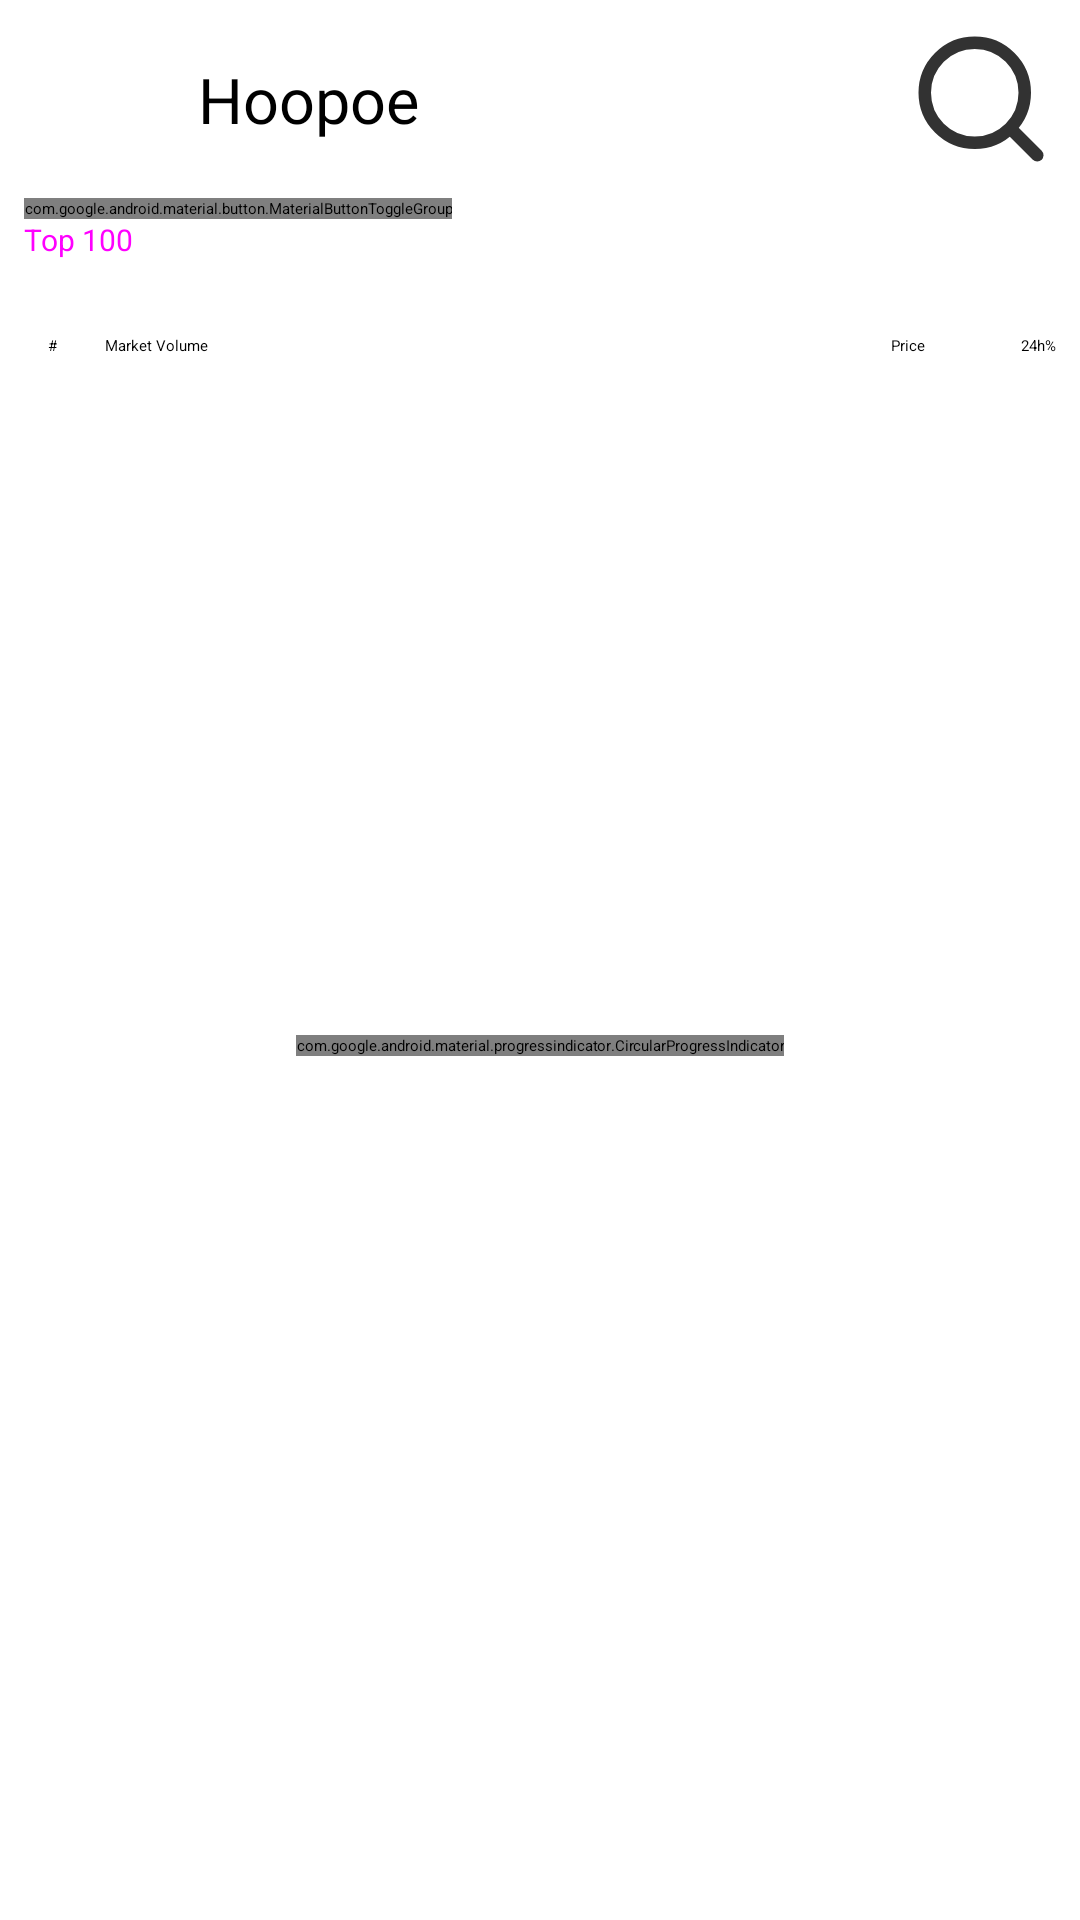

Named icons in this screenshot (1080×1920) and their bounding boxes, (x1, y1, x2, y2):
search: (918, 36, 1044, 162)
